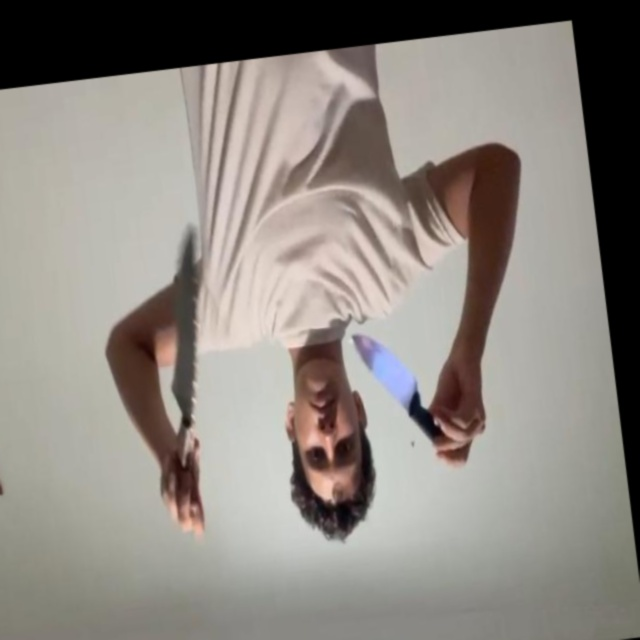Sharp-Object: (152, 230, 213, 424), (351, 331, 417, 416)
